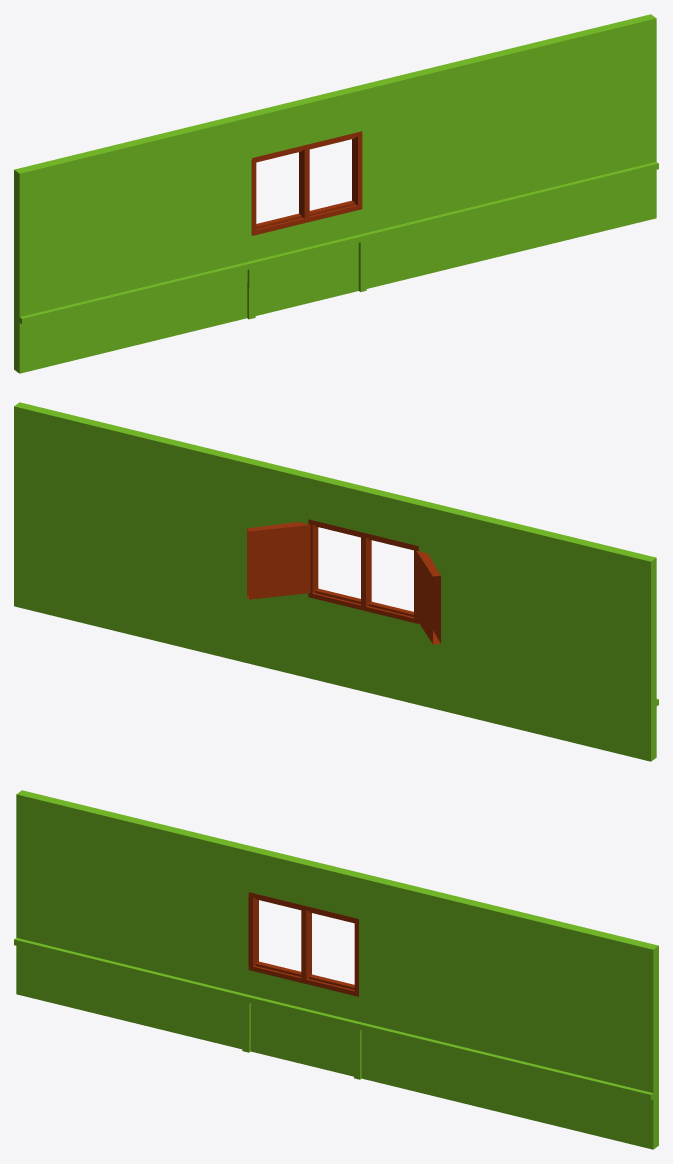
The model's file is windowwall.fbx.
3 views of the same model, one above another, from view 1: azimuth 30°, elevation 25°; view 2: azimuth 150°, elevation 25°; view 3: azimuth 330°, elevation 25° (orthographic).
Parts seen in each view (by area): view 1: Box001 (×2); view 2: Box001 (×2); view 3: Box001 (×2).
Part boxes in pixels (bbox=[...]): Box001 (×2): bbox=[14, 14, 658, 373]; Box001 (×2): bbox=[14, 402, 658, 761]; Box001 (×2): bbox=[14, 790, 658, 1149].
Bounding box in the file's own units: 65000 × 5387 × 19500.
